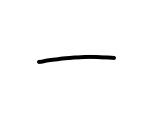minus: (37, 55, 116, 64)
